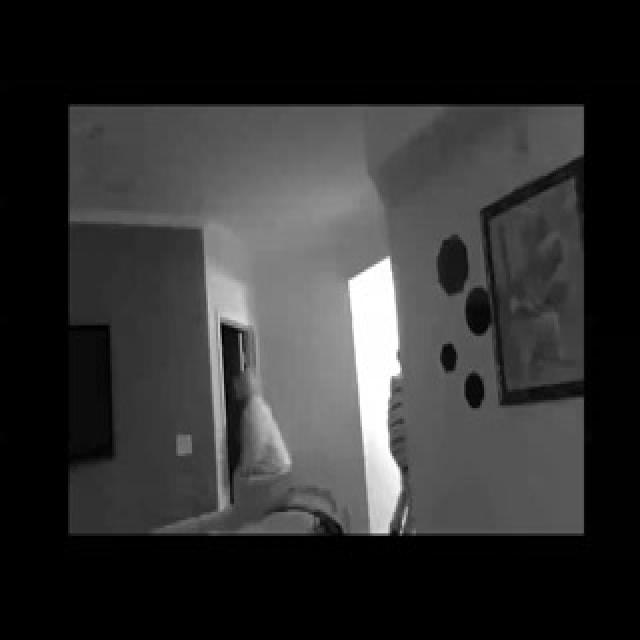thief: (225, 355, 276, 430)
